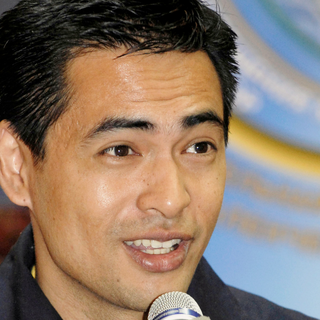eye: (93, 138, 147, 166), (176, 134, 221, 161)
